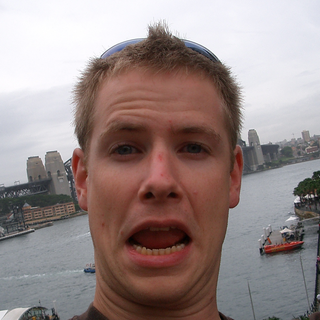eye: (104, 139, 149, 163), (173, 138, 216, 162)
